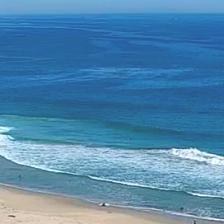surfer: (126, 137, 132, 141)
